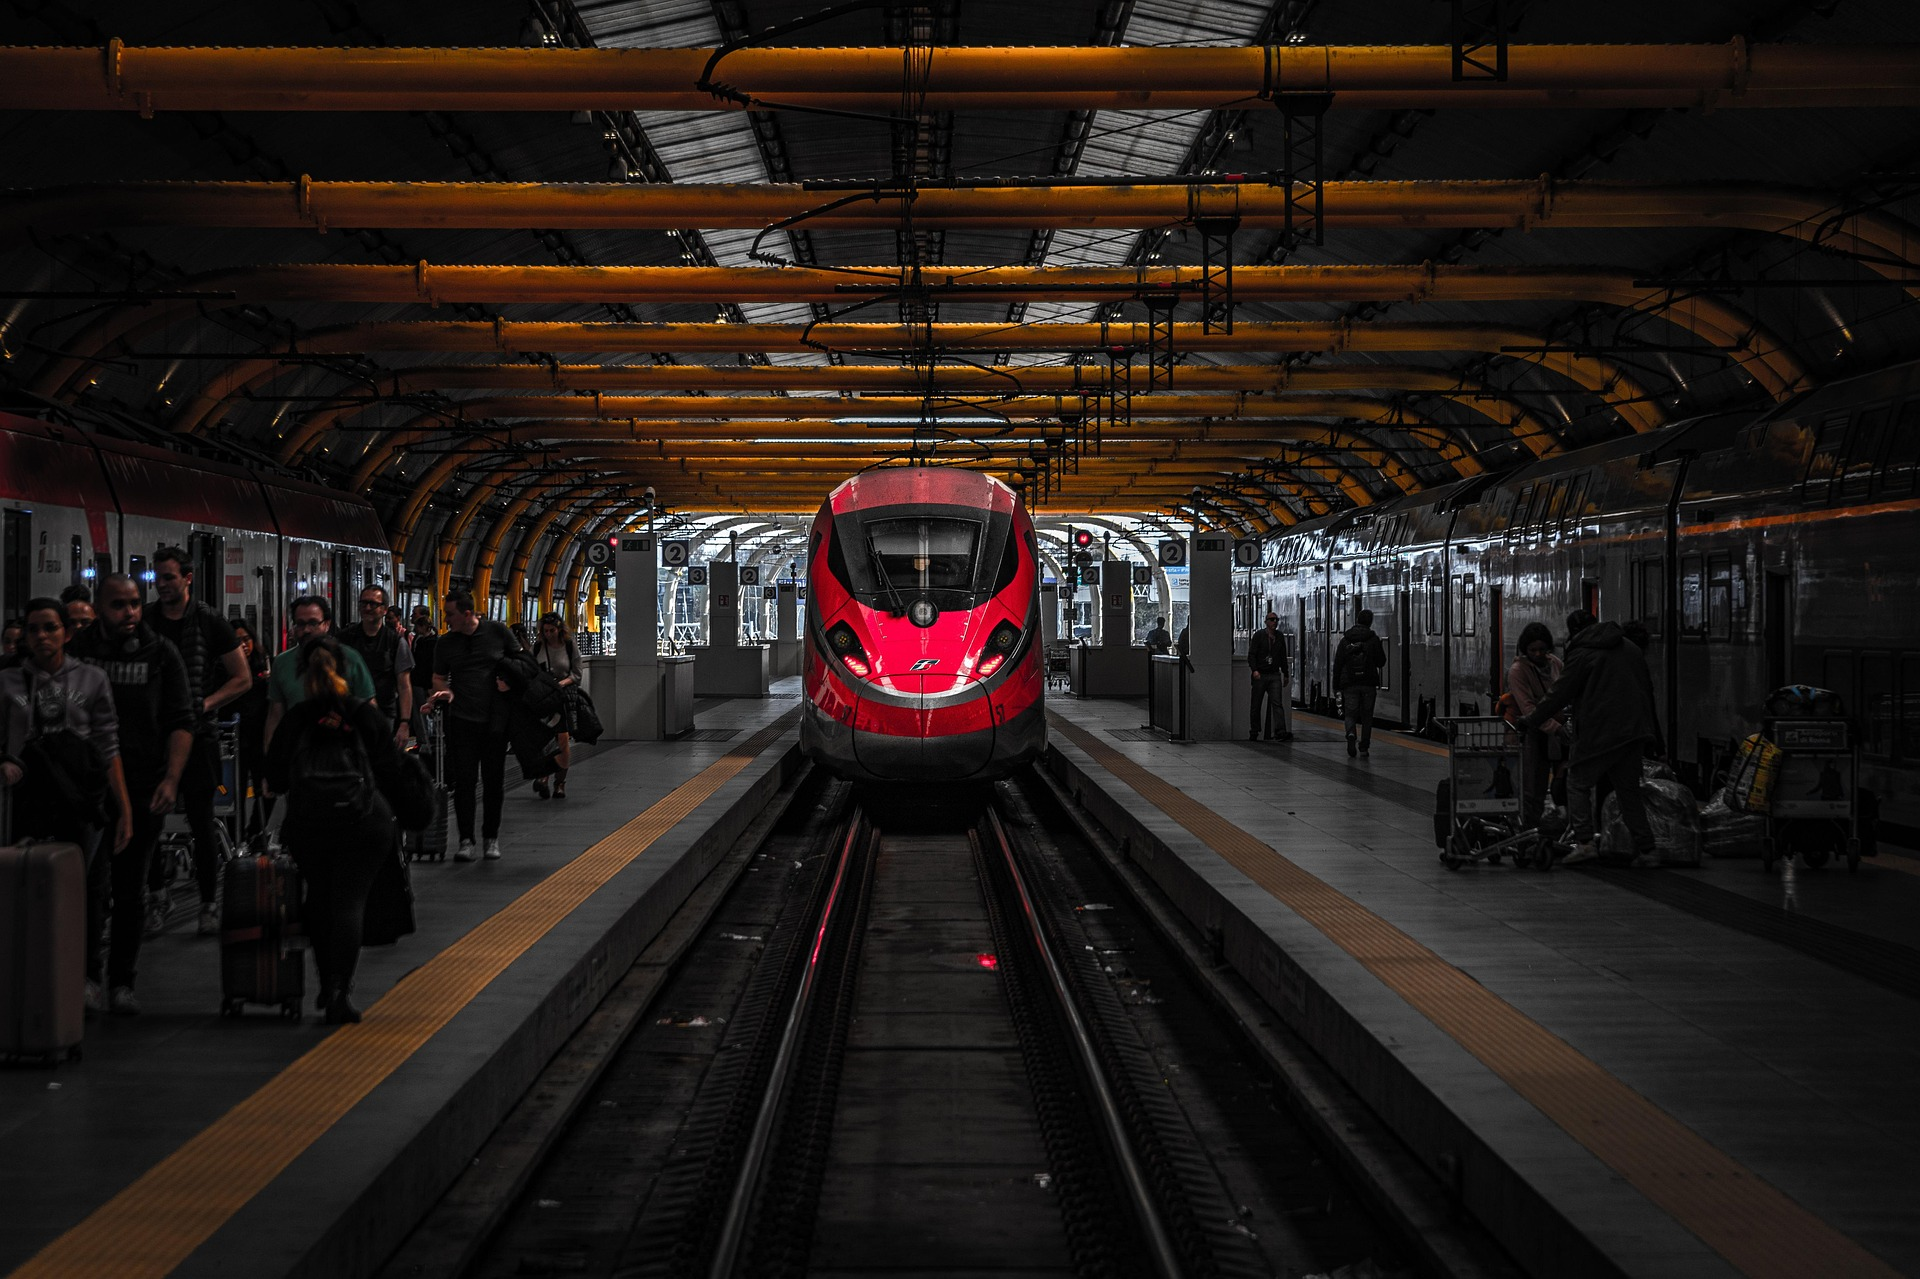train1: (797, 464, 1055, 788)
